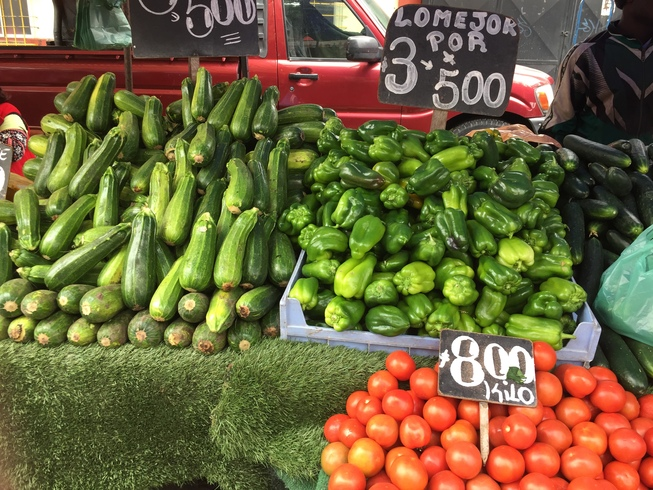precio: (372, 2, 531, 122), (433, 324, 546, 412), (123, 1, 270, 65)
